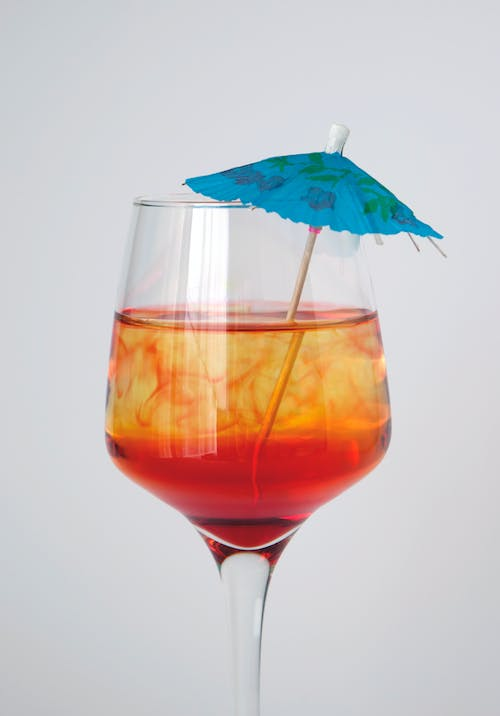alcohol: (102, 195, 394, 716)
